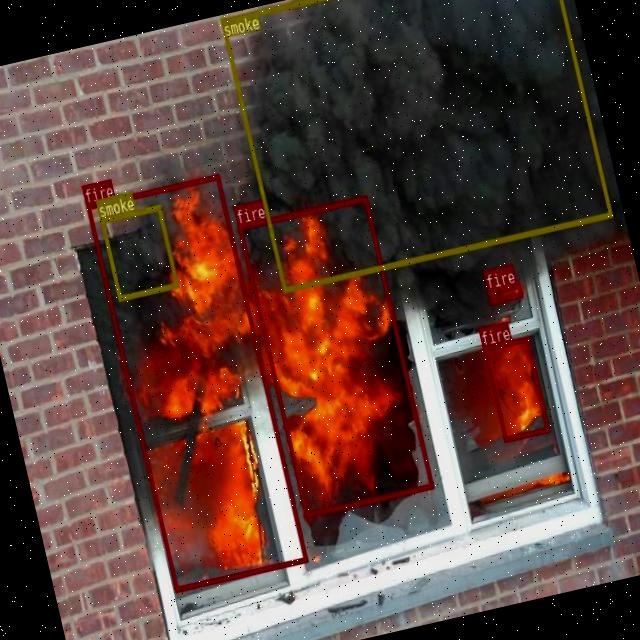fire: (85, 173, 308, 591), (236, 195, 434, 518), (482, 335, 549, 441), (487, 282, 522, 304)
smoke: (218, 0, 611, 291), (99, 204, 177, 300)
